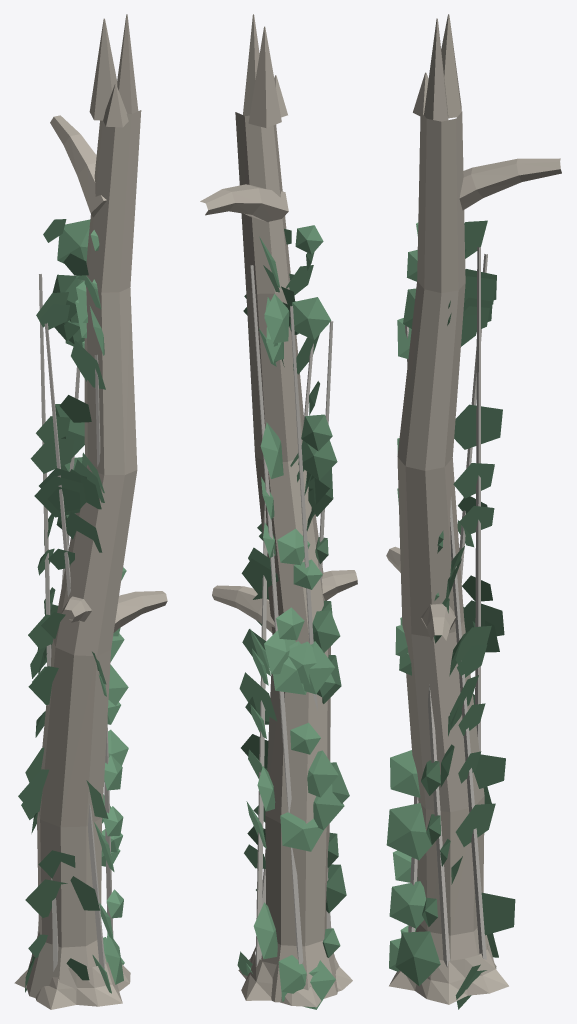
The model's file is temperate-forest-ecology-ivy-clad-stem-28ae1e59__3843.glb.
3 renders of one model, left to right at view 1: azimuth 30°, elevation 25°; view 2: azimuth 150°, elevation 25°; view 3: azimuth 270°, elevation 25°, orthographic. The views are drawn at different scales.
Visible parts, largest first — view 1: ivy-clad-stem; view 2: ivy-clad-stem; view 3: ivy-clad-stem.
Part boxes in pixels (x1,y1,x2,y2): ivy-clad-stem: (14, 14, 167, 1009); ivy-clad-stem: (200, 14, 357, 1009); ivy-clad-stem: (386, 14, 561, 1009).
Size of the model in its own units: 1.05 by 6.97 by 1.12.
